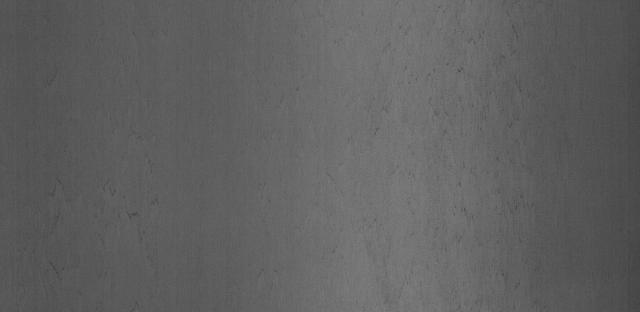silk_spot: (366, 43, 508, 188), (109, 151, 192, 244)
